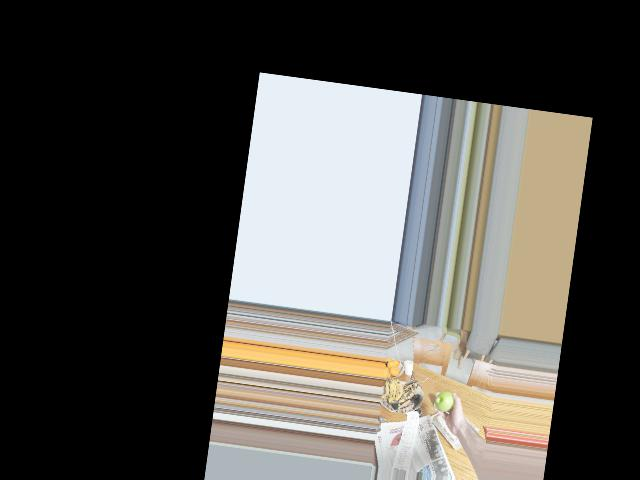apple: (435, 389, 457, 414)
